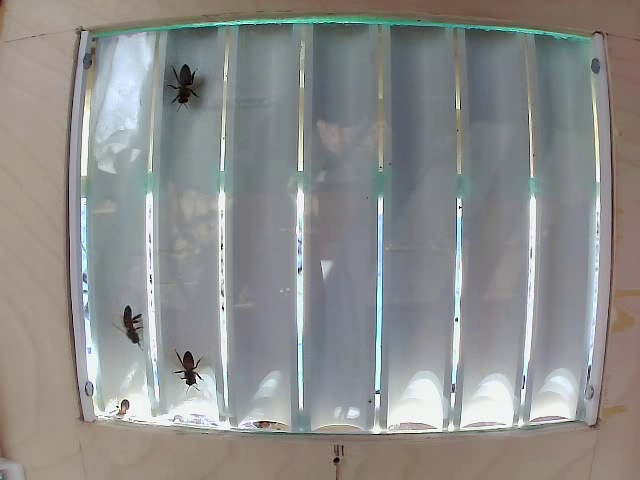bee: (166, 335, 210, 392), (113, 294, 152, 356), (174, 52, 207, 115)
